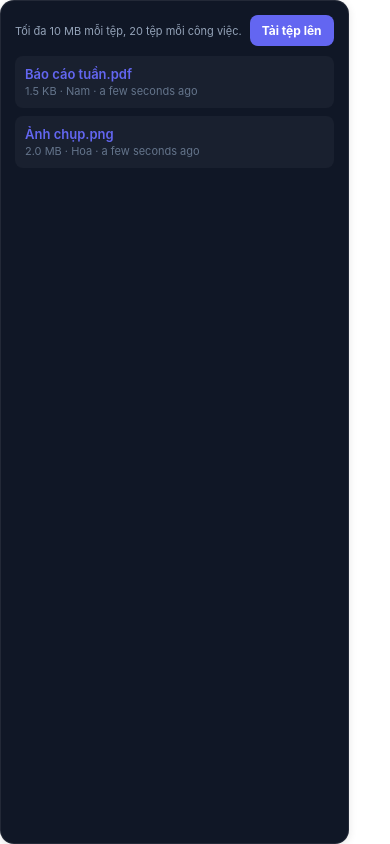
it: tệp quá 10 MB bị chặn ngay, không gửi lên
Expected: the text "Báo cáo tuần.pdf" is shown, [25,66,132,82]
Click the text "Tải tệp lên".
click(292, 30)  # box [262,23,322,38]
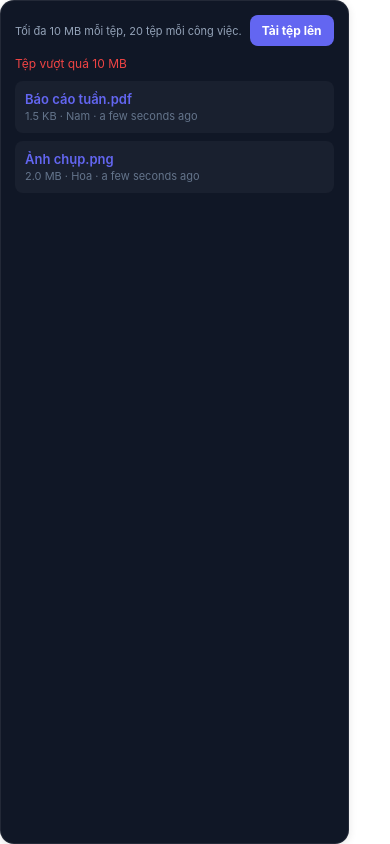
Expected: the text "Tệp vượt quá 10 MB" is shown, [15,56,127,71]
